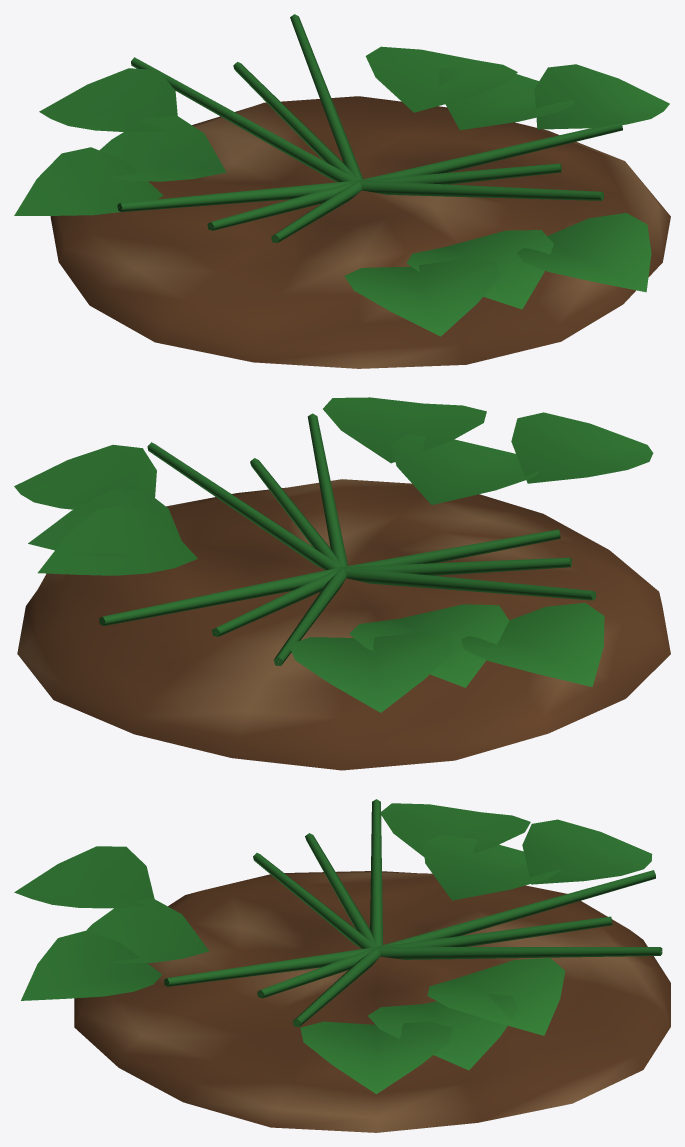
File: plant-watermelon-3.gltf
The picture shows the model from 3 angles, top to bottom: view 1: azimuth 30°, elevation 25°; view 2: azimuth 150°, elevation 25°; view 3: azimuth 270°, elevation 25°; orthographic projection. The views are drawn at different scales.
Bounding box in the file's own units: 1.43 × 0.2254 × 1.39.
